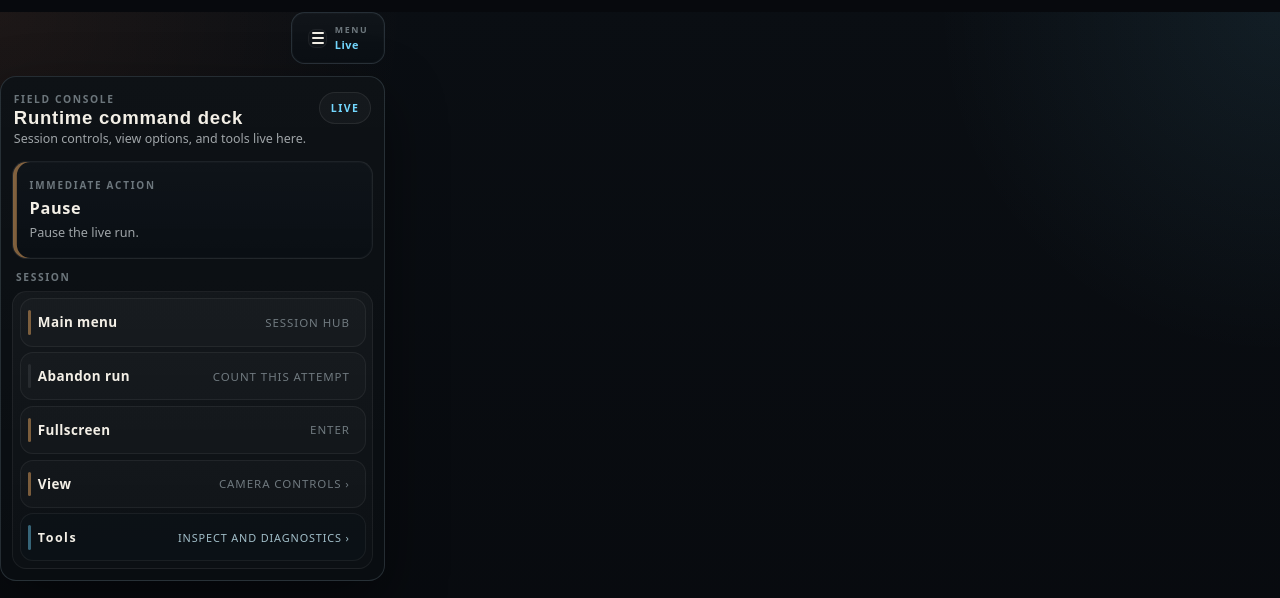
ShellMenu › uses Escape to step back from submenus before closing the deck
The width and height of the screenshot is (1280, 598).
Click the button "View Camera controls ›". click: coordinates (55, 484)
box: [20,460,366,508]
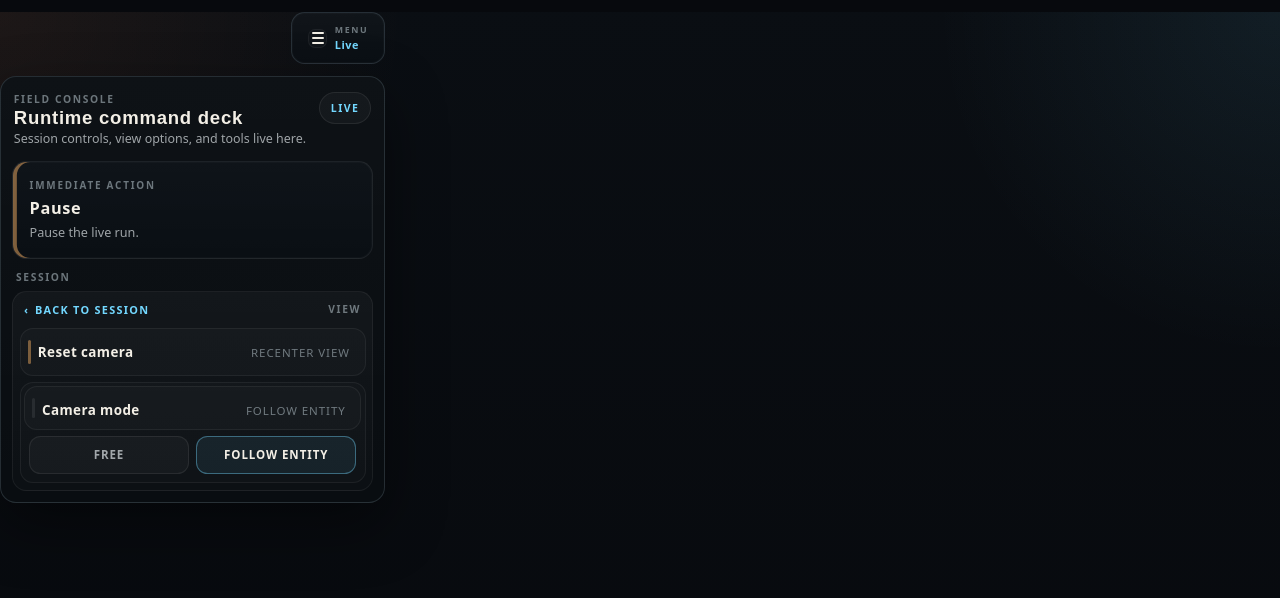
Press Escape
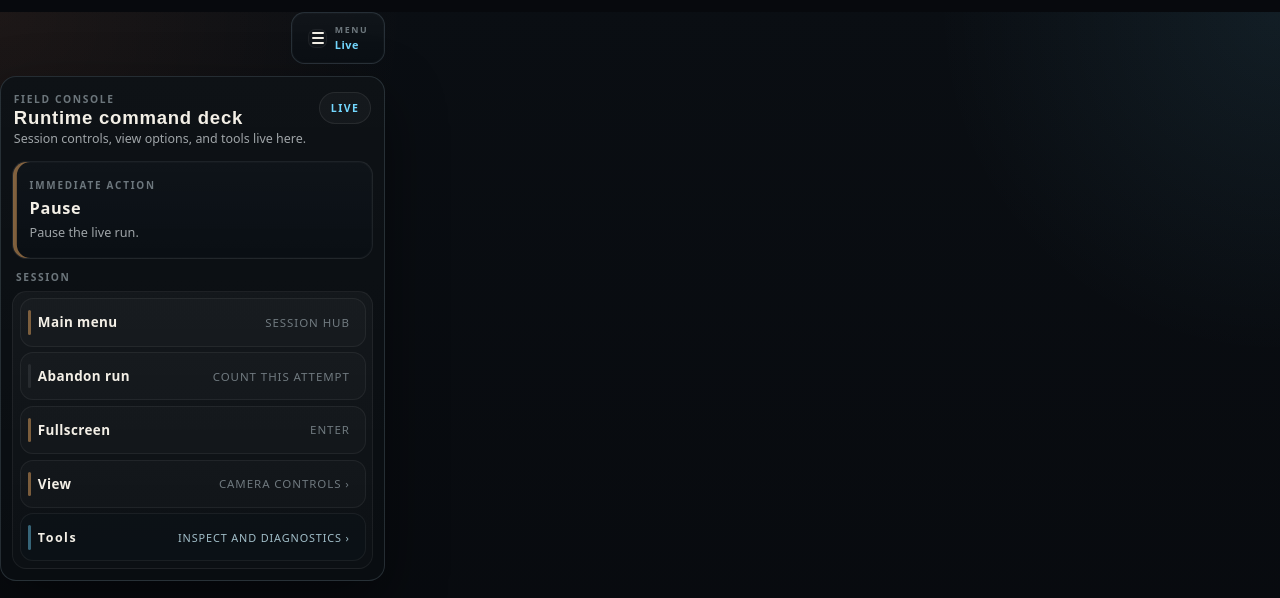
Expected: the button "Main menu Session hub" is shown, [20,298,366,347]
